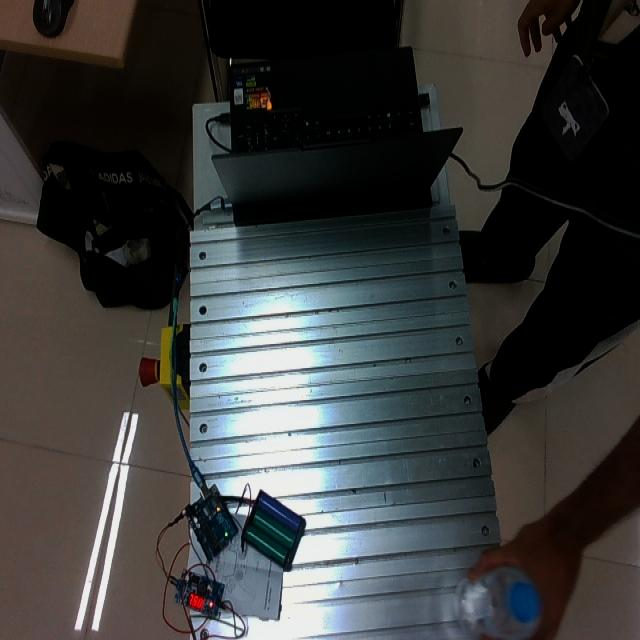lavie: (454, 562, 541, 638)
